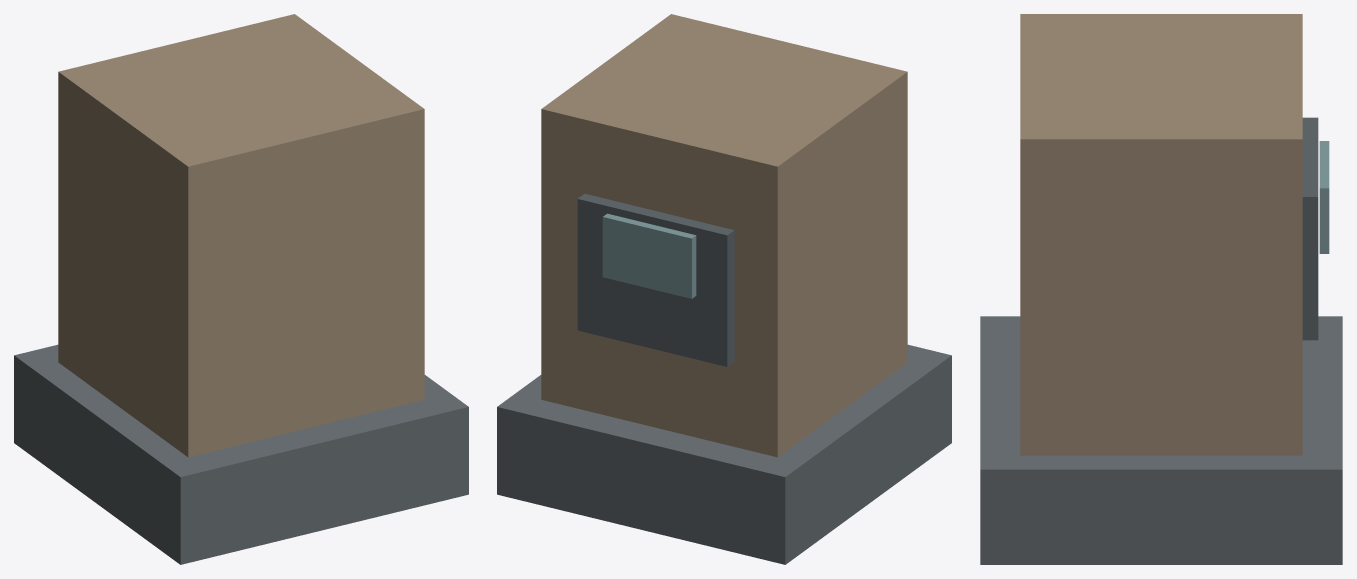
File: iz3_production_silo_02.glb
The picture shows the model from 3 angles, left to right: view 1: azimuth 30°, elevation 25°; view 2: azimuth 150°, elevation 25°; view 3: azimuth 270°, elevation 25°; orthographic projection. The views are drawn at different scales.
Visible parts, largest first — view 1: cabinet, base; view 2: cabinet, base, panel, display; view 3: cabinet, base, panel, display.
Boxes of the visible parts, x1,y1,x2,y2 form: cabinet: [58, 14, 424, 457]; base: [14, 344, 468, 564]; cabinet: [541, 14, 907, 457]; base: [497, 344, 951, 564]; panel: [577, 193, 734, 366]; display: [602, 213, 696, 298]; cabinet: [1020, 14, 1302, 455]; base: [980, 316, 1342, 564]; panel: [1302, 117, 1318, 340]; display: [1319, 141, 1329, 253].
Size of the model in its own units: 1.1 by 1.38 by 1.1.
